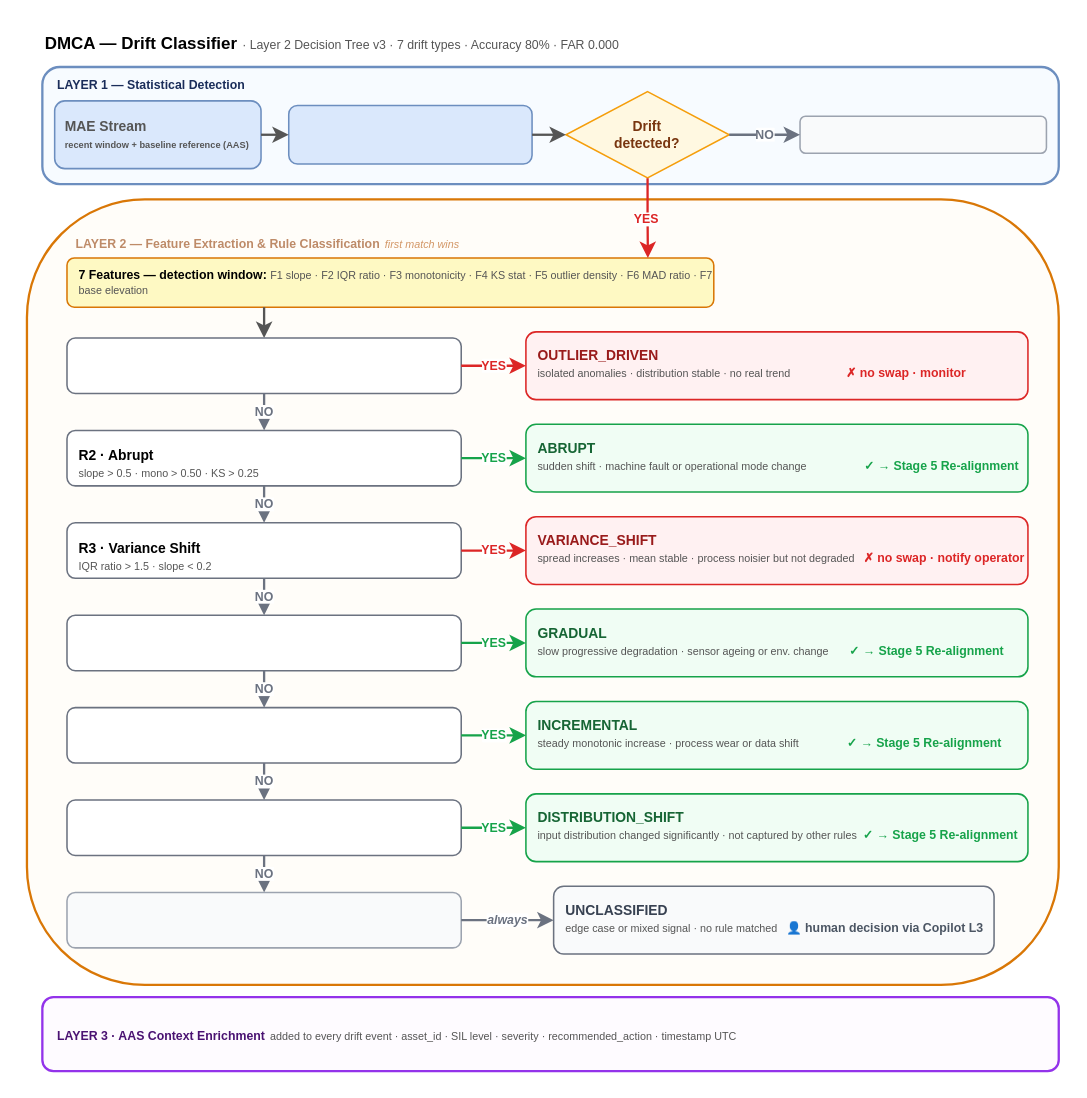
This 1087x1098 diagram has some shape labels left out. The shapes that lost their labels are listed below. From the top down, each one's centre as x and y in pixels, then its label:
At point 409,134: "ADWIN δ = 0.002 rolling mean + MAD variance trigger".
At point 922,134: "continue monitoring".
At point 263,364: "R1 · Outlier-Driven od > 0.10 · KS < 0.25".
At point 263,642: "R4 · Gradual slope < 0.15 · outlier density > 0.50".
At point 263,734: "R5 · Incremental 0.1 ≤ slope ≤ 0.5 · mono > 0.50".
At point 263,826: "R6 · Distribution Shift KS stat > 0.40".
At point 263,919: "Fallback no previous rule matched — default branch".
